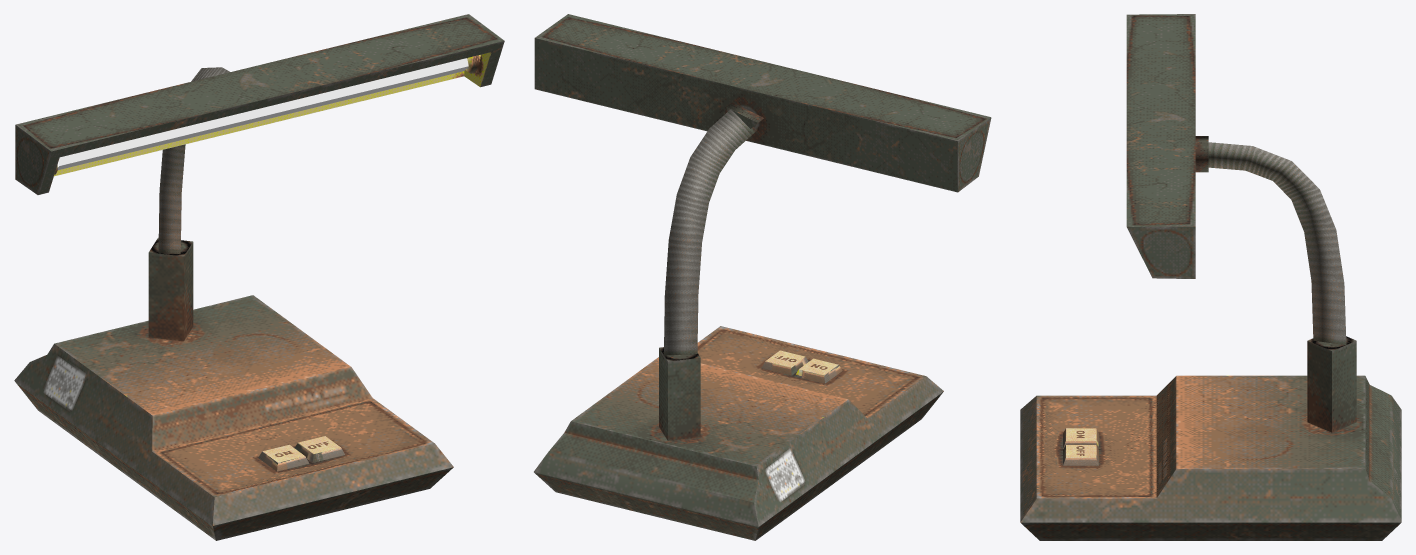
The model's file is desk_lamp_lod2.fbx.
The picture shows the model from 3 angles, left to right: view 1: azimuth 30°, elevation 25°; view 2: azimuth 150°, elevation 25°; view 3: azimuth 270°, elevation 25°; orthographic projection. The views are drawn at different scales.
Parts seen in each view (by area): view 1: body_low_lod2, lamp_head_lod2, lamp_low_lod1, tube_low_lod2, button_b_lod1, button_a_lod1; view 2: body_low_lod2, lamp_head_lod2, tube_low_lod2, button_b_lod1, button_a_lod1; view 3: body_low_lod2, lamp_head_lod2, tube_low_lod2, button_a_lod1, button_b_lod1.
Boxes of the visible parts, left/top/right/bottom form: body_low_lod2: left=14, top=237, right=453, bottom=540; lamp_head_lod2: left=15, top=14, right=504, bottom=194; lamp_low_lod1: left=57, top=58, right=468, bottom=169; tube_low_lod2: left=158, top=67, right=230, bottom=253; button_b_lod1: left=258, top=444, right=309, bottom=471; button_a_lod1: left=294, top=436, right=344, bottom=462; body_low_lod2: left=534, top=326, right=943, bottom=540; lamp_head_lod2: left=534, top=14, right=991, bottom=192; tube_low_lod2: left=663, top=107, right=756, bottom=362; button_b_lod1: left=795, top=358, right=842, bottom=383; button_a_lod1: left=761, top=350, right=808, bottom=375; body_low_lod2: left=1020, top=336, right=1401, bottom=540; lamp_head_lod2: left=1126, top=14, right=1208, bottom=278; tube_low_lod2: left=1204, top=142, right=1346, bottom=352; button_a_lod1: left=1063, top=445, right=1098, bottom=465; button_b_lod1: left=1063, top=428, right=1098, bottom=448.
Bounding box in the file's own units: 53.86 × 43.84 × 40.87.
